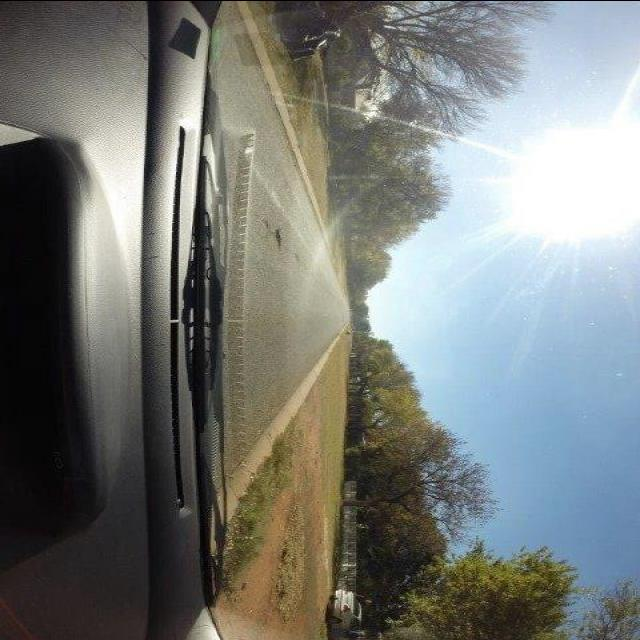jalan retak: (258, 75, 302, 166)
lubang: (264, 216, 284, 250), (291, 251, 303, 262)
